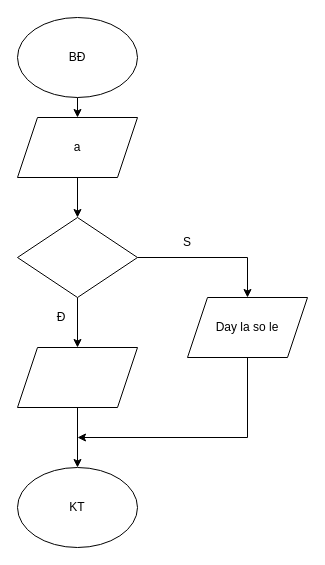
The diagram is 325 pixels wide and 565 high, and some of its shapes have lost their labels. The shapes that lost their labels are listed below. From the top down, each one's centre as x and y in pixels, then its label:
At point (77, 257): "a % 2 ==0".
At point (77, 377): "Day la so chan".
